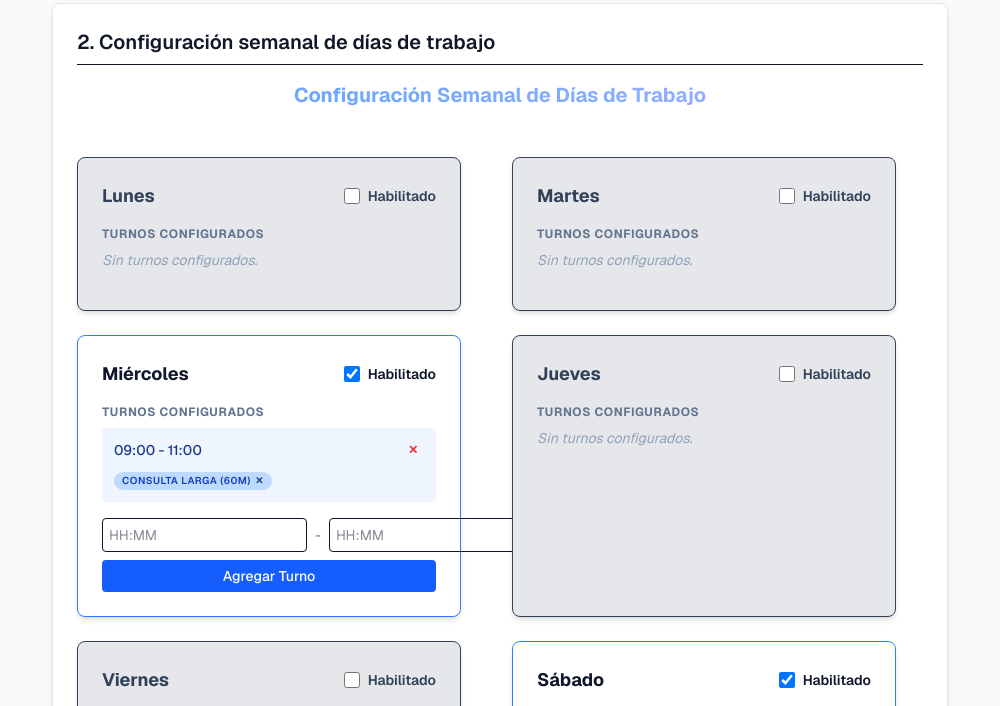
Test: US_002 - Definir horario de turno y validar superposición › Debería crear un turno correctamente en un día habilitado (Flujo Exitoso)
This screenshot has width=1000, height=706.
(page scrolled)
Click the button with test id "btn-eliminar-turno-miércoles" at (413, 450), box [402,442,424,458]
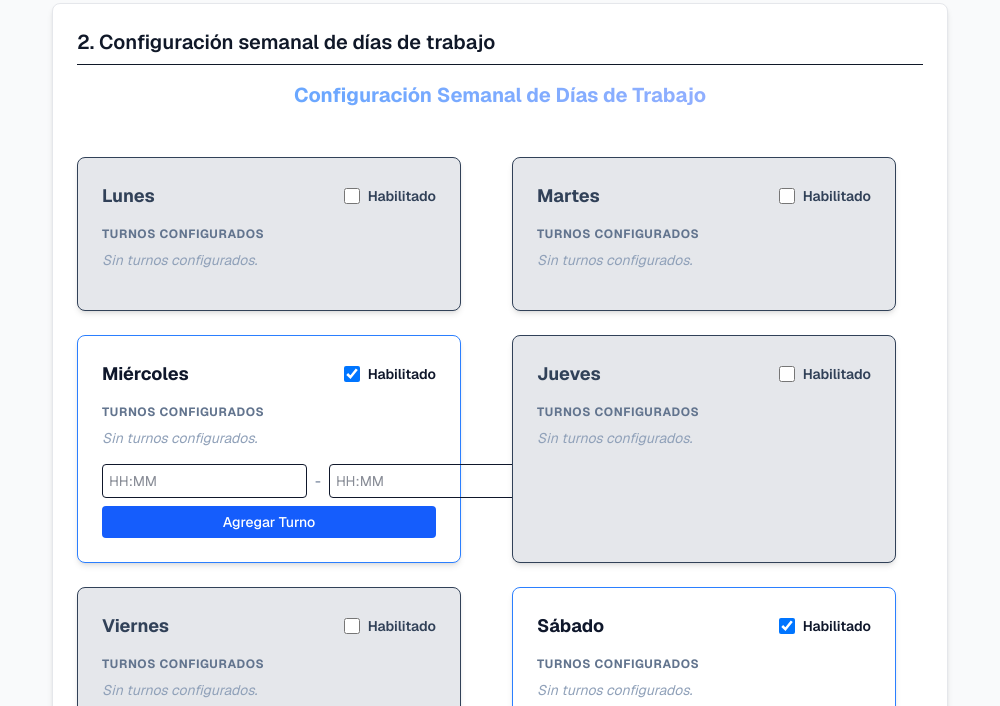
Type "09:00" into the field with test id "input-hora-inicio-miércoles" at (205, 481), box [102,464,307,498]
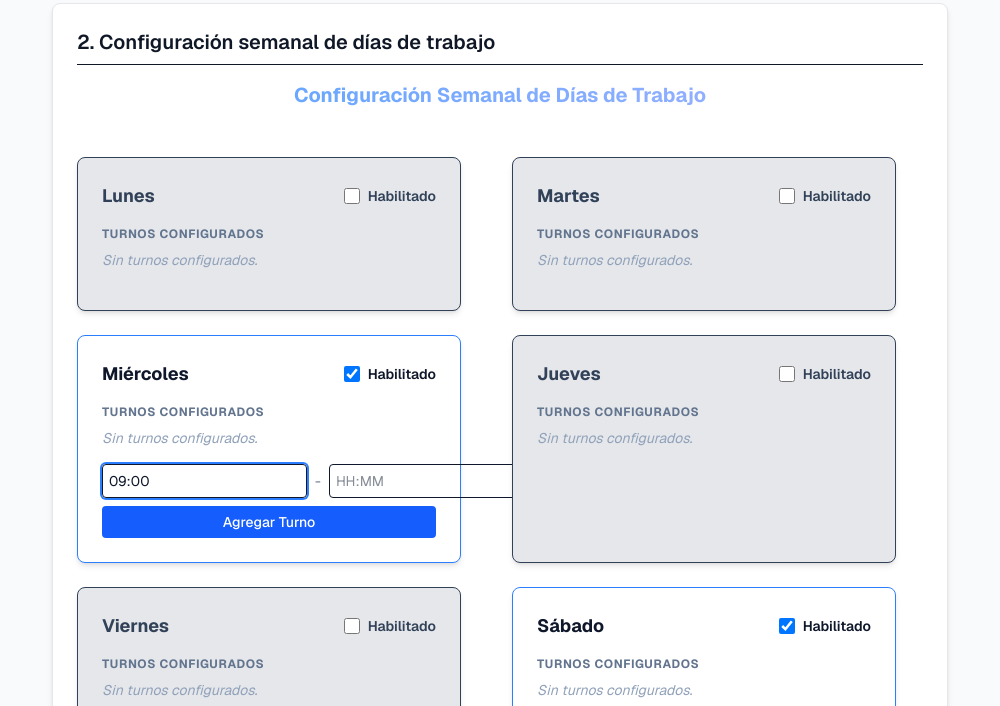
Type "10:00" into the field with test id "input-hora-fin-miércoles" at (432, 481), box [329,464,534,498]
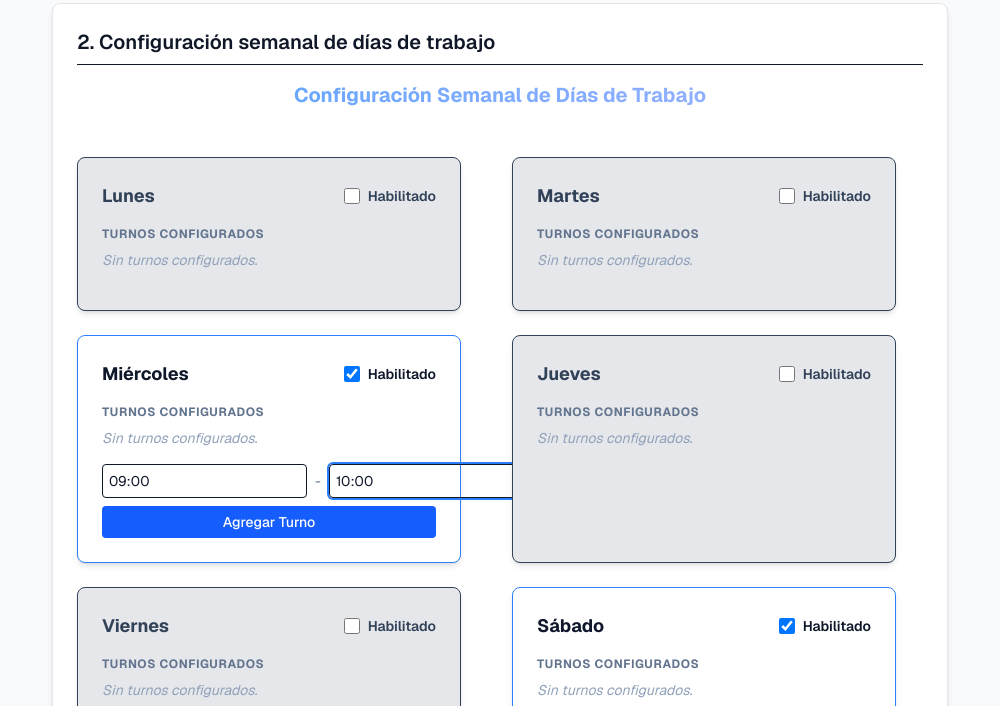
Click the button with test id "btn-agregar-turno-miércoles" at (269, 522), box [102,506,436,538]
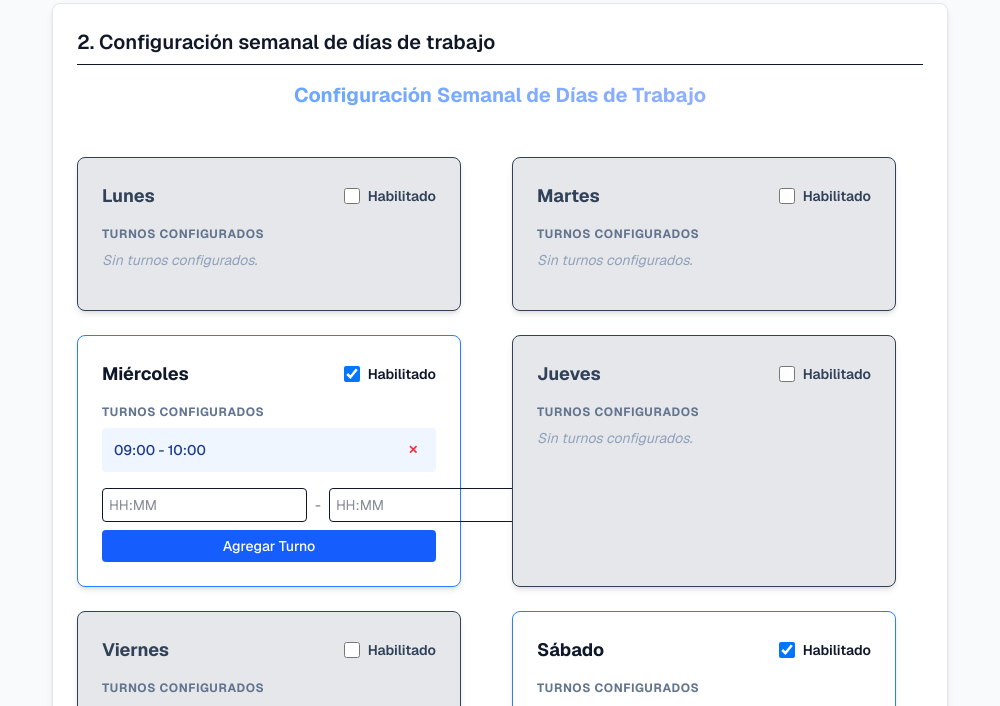
Expected: the element with test id "turno-item-miércoles" shows "09:00 - 10:00", [102,428,436,472]
Scroll
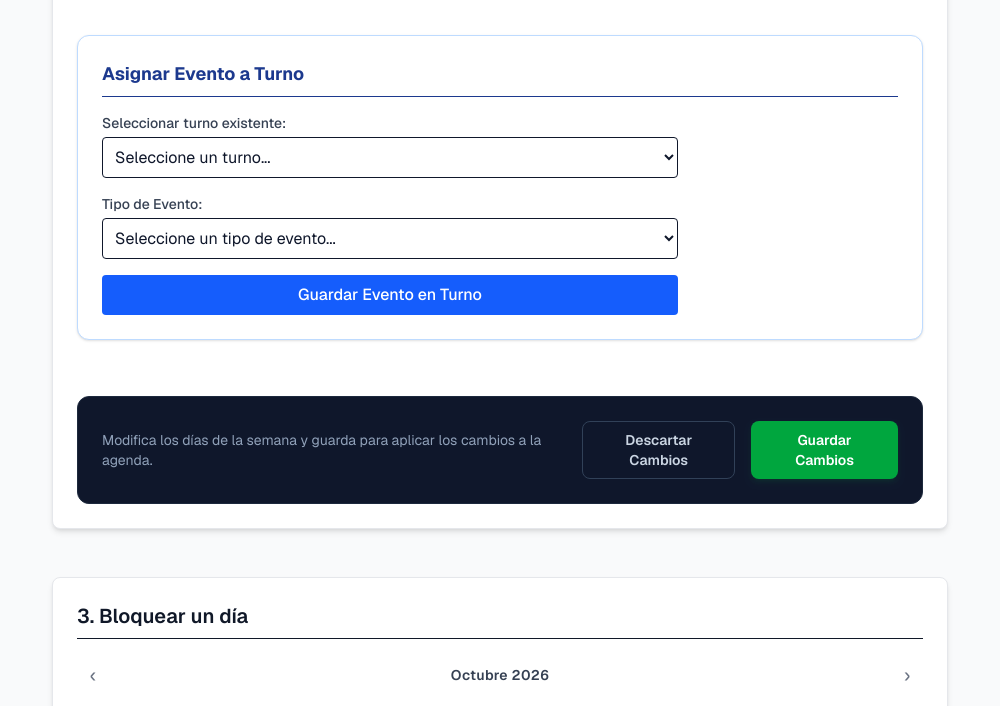
Click the button with test id "btn-guardar-global" at (825, 450), box [751,421,898,479]
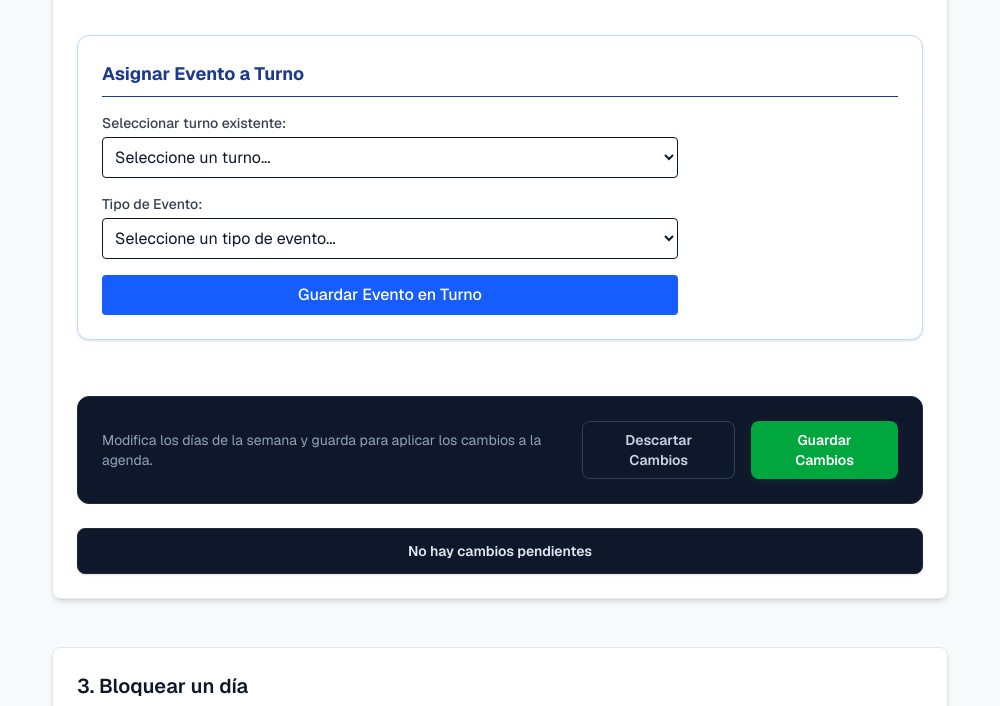
Expected: the text with test id "mensaje-alerta-global" reads "No hay cambios pendientes", [77,528,923,574]
